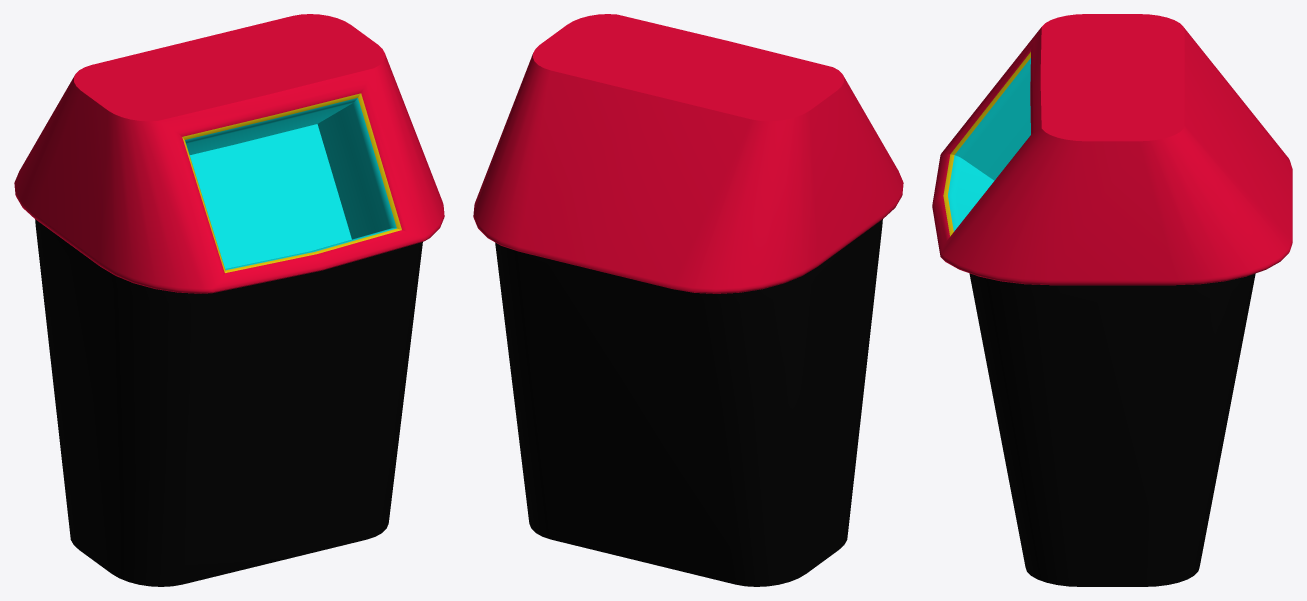
File: Trashcan.fbx
The picture shows the model from 3 angles, left to right: view 1: azimuth 30°, elevation 25°; view 2: azimuth 150°, elevation 25°; view 3: azimuth 270°, elevation 25°; orthographic projection. The views are drawn at different scales.
Parts seen in each view (by area): view 1: Cube; view 2: Cube; view 3: Cube.
Part boxes in pixels (left/top/right/bottom): Cube: left=14, top=14, right=444, bottom=586; Cube: left=473, top=14, right=903, bottom=586; Cube: left=932, top=14, right=1292, bottom=586.
Size of the model in its own units: 270 by 365 by 267.
